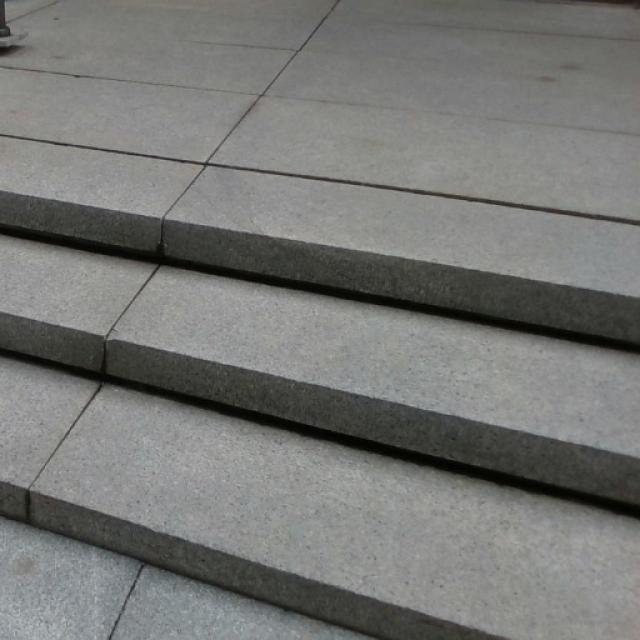Stairs: (0, 185, 639, 639)
